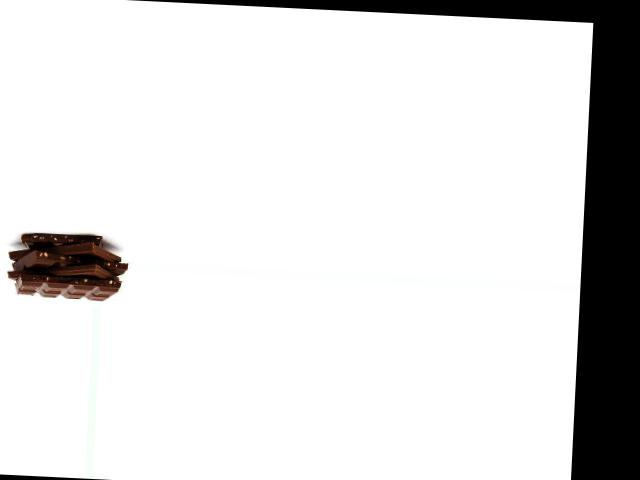chocolate: (10, 225, 122, 274)
